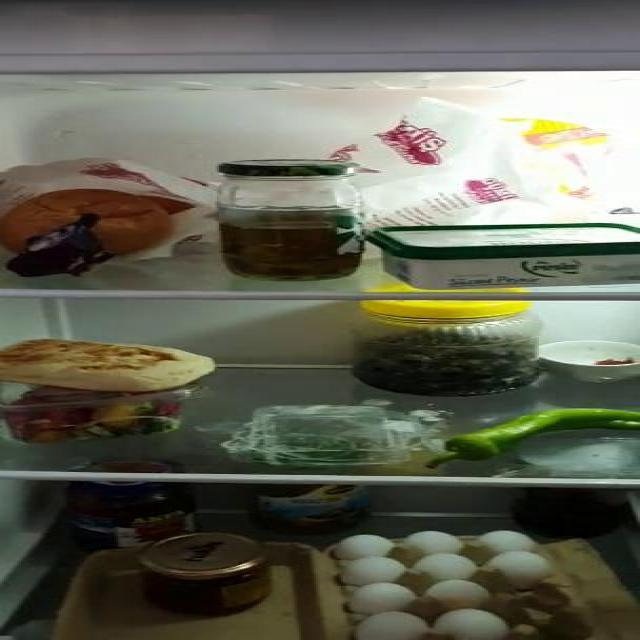bazlama: (2, 339, 211, 389)
bread: (0, 191, 169, 257)
cream cheese: (370, 226, 640, 285)
eggs: (341, 535, 544, 634)
green chilies: (433, 409, 640, 463)
olives: (358, 344, 541, 393)
red onion: (6, 221, 112, 277)
